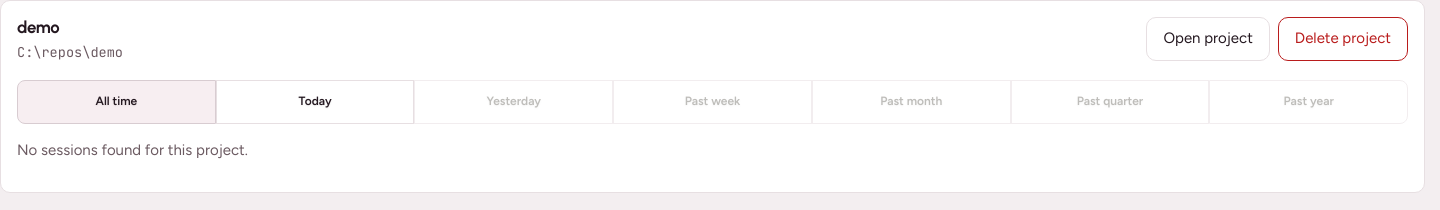
Scenario: ProjectDetailPanel charts › names the range in the empty message for any other range
The width and height of the screenshot is (1440, 210).
Expected: the text "No sessions found for this project." is shown, [17,141,248,159]
Click the radio button labelled "Today": [315, 102] box [216,80,414,124]
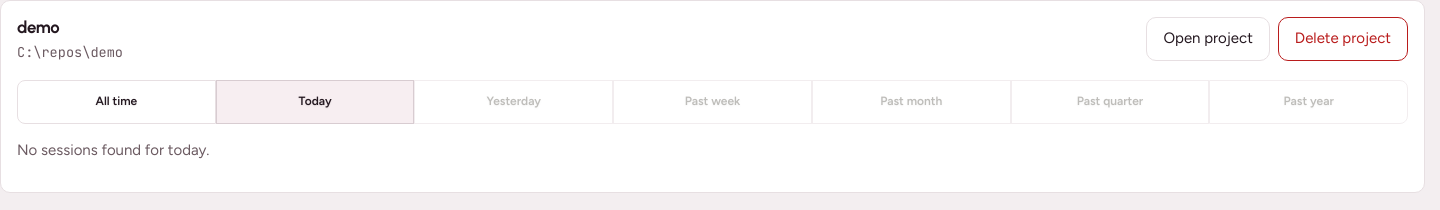
Expected: the text "No sessions found for today." is shown, [17,141,210,159]
